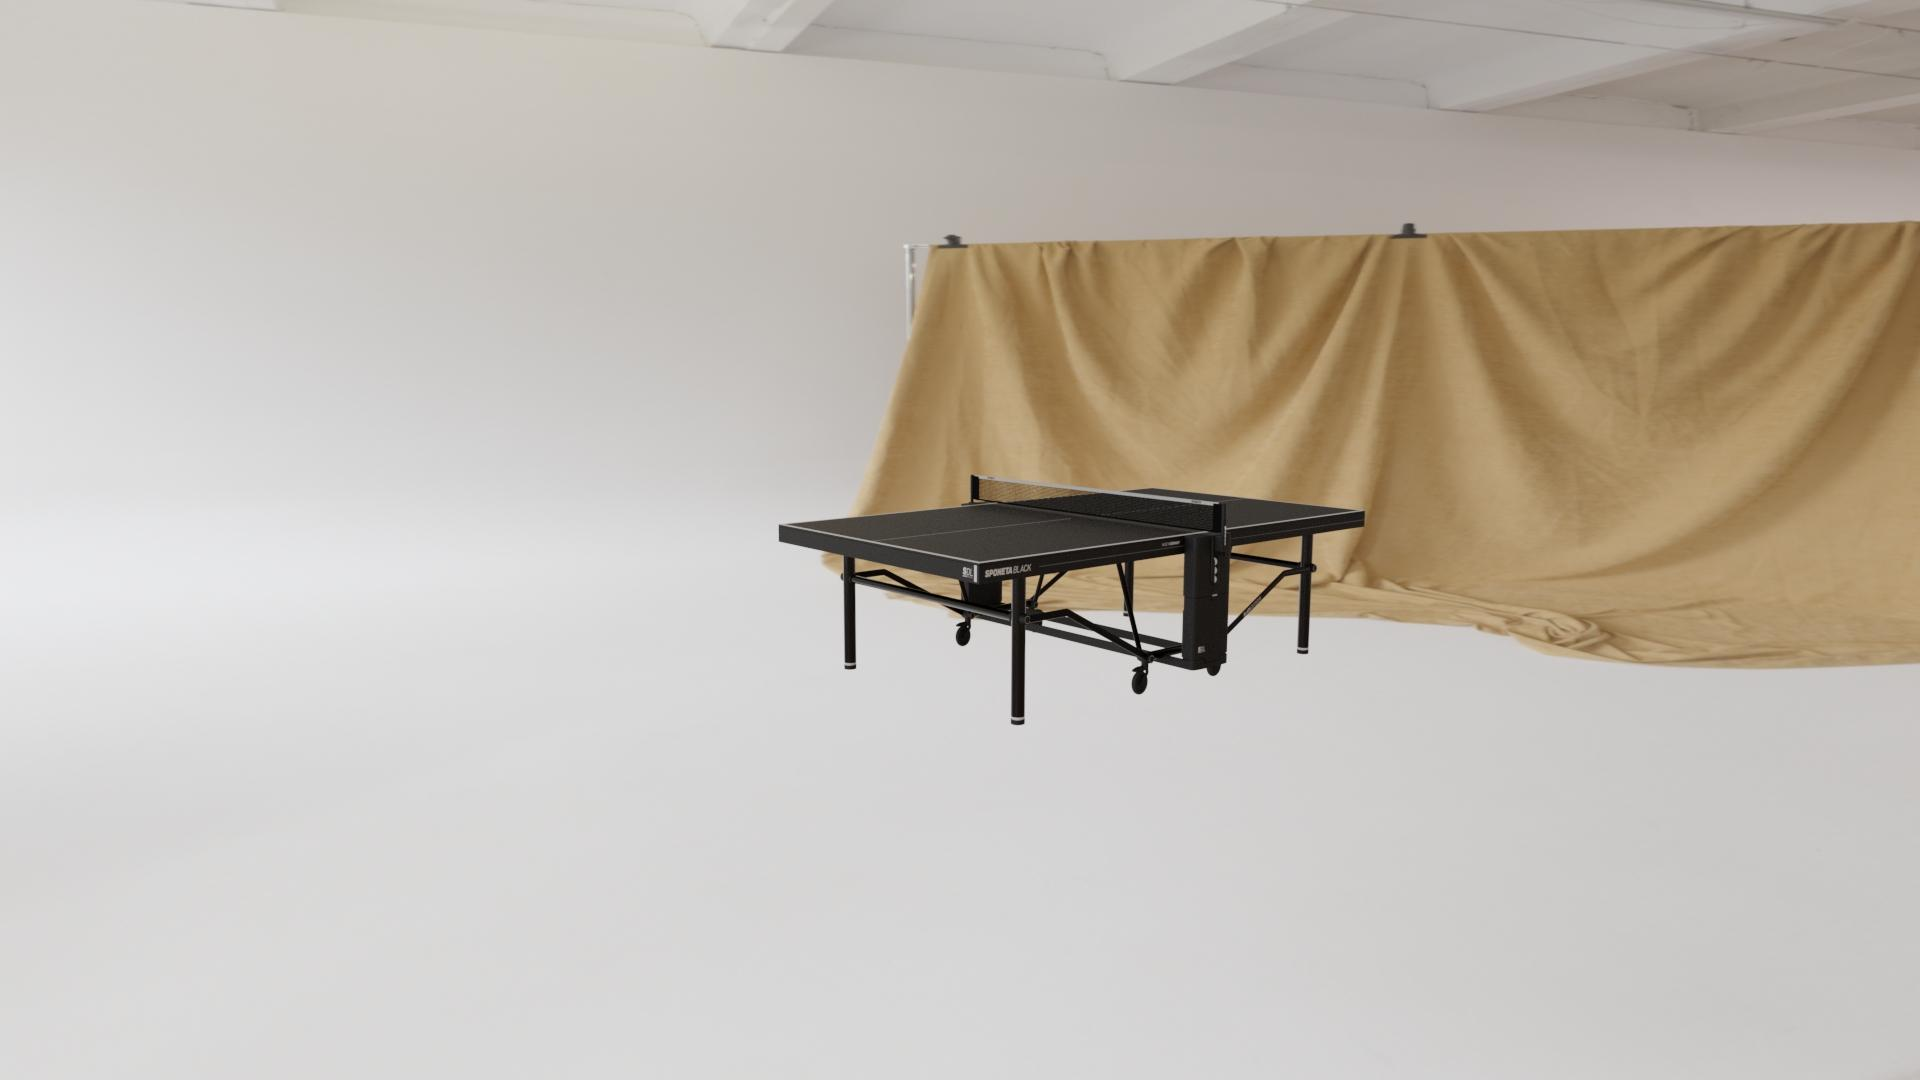table: (783, 488, 1360, 562)
